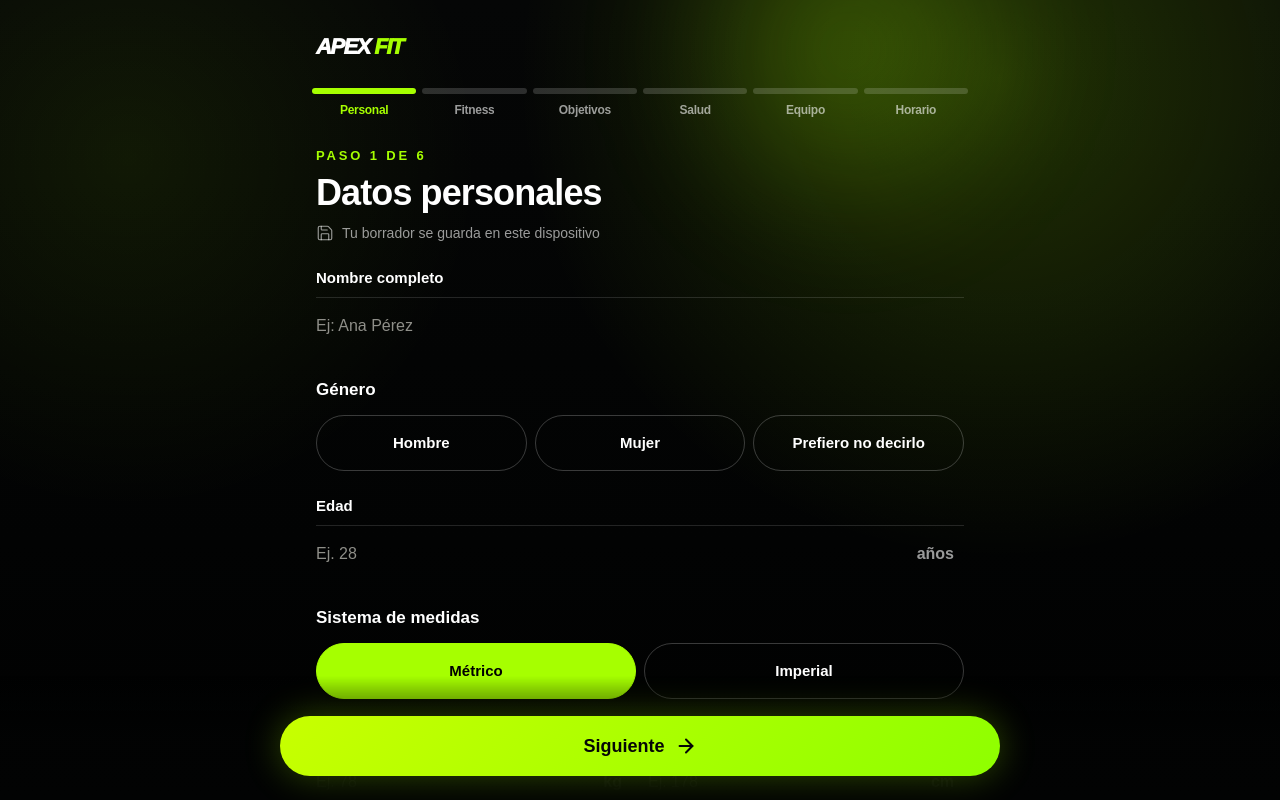
Test: OnboardingForm › flags each empty field on step 1 instead of advancing
Expected: the heading "Datos personales" is shown, [316,172,602,212]
Click the button "Siguiente".
click(640, 746)  # box [280,716,1000,776]
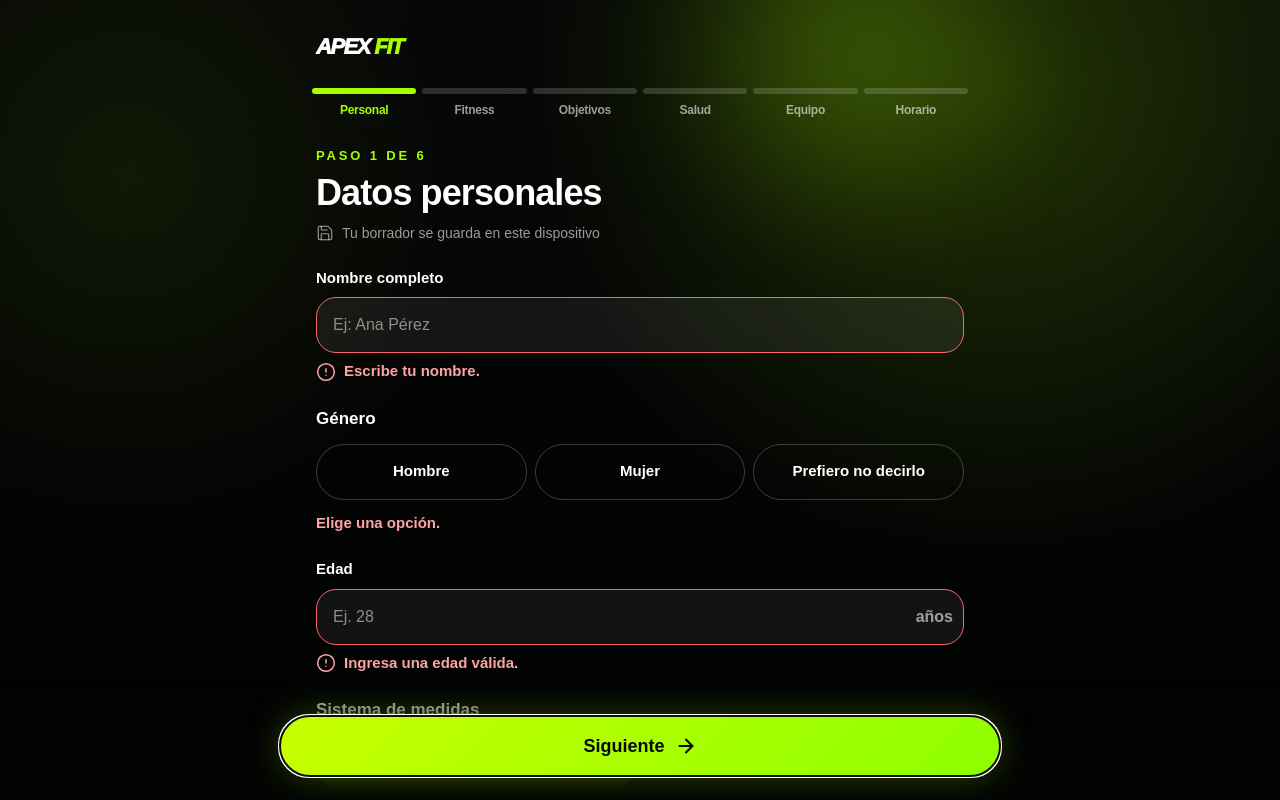
Expected: the text "Paso 1 de 6" is shown, [316,148,427,163]
Expected: the text "Escribe tu nombre." is shown, [344,362,480,379]
Expected: the text "Ingresa una edad válida." is shown, [344,654,518,671]
